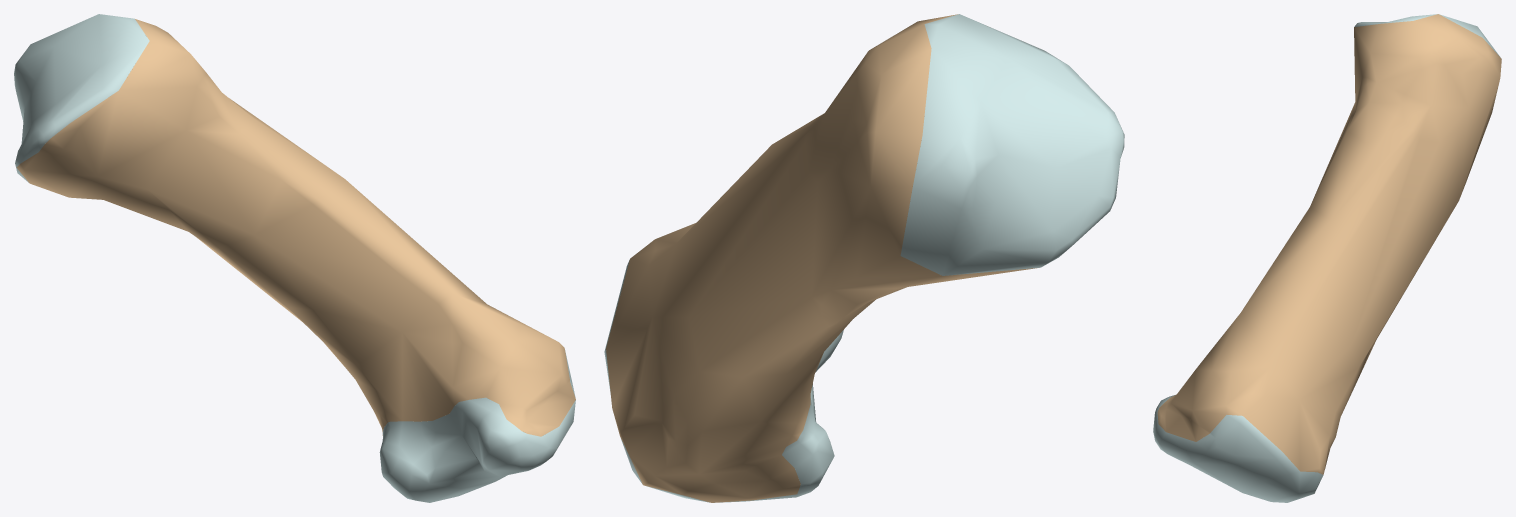
Rendered from 1st_metacarpal_bone.l_Generated_Mesh_From_X3D.742.glb.
3 views of the same model, side by side, from view 1: azimuth 30°, elevation 25°; view 2: azimuth 150°, elevation 25°; view 3: azimuth 270°, elevation 25° (orthographic). The views are drawn at different scales.
Parts seen in each view (by area): view 1: 1st_metacarpal_bone.l_Generated_Mesh_From_X3D.742; view 2: 1st_metacarpal_bone.l_Generated_Mesh_From_X3D.742; view 3: 1st_metacarpal_bone.l_Generated_Mesh_From_X3D.742.
Part boxes in pixels (x1,y1,x2,y2): 1st_metacarpal_bone.l_Generated_Mesh_From_X3D.742: (14,14,575,502); 1st_metacarpal_bone.l_Generated_Mesh_From_X3D.742: (604,14,1124,502); 1st_metacarpal_bone.l_Generated_Mesh_From_X3D.742: (1153,14,1501,502).
Size of the model in its own units: 0.0387 by 0.0384 by 0.0315.
